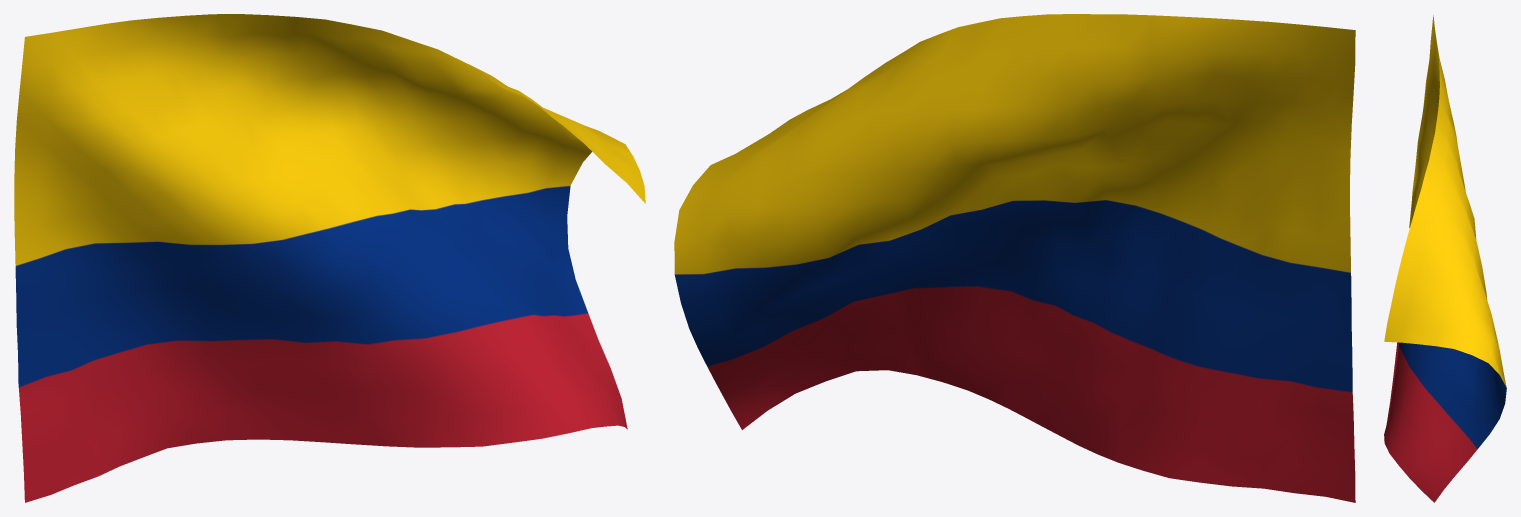
The model's file is colombia.glb.
The picture shows the model from 3 angles, left to right: view 1: azimuth 30°, elevation 25°; view 2: azimuth 150°, elevation 25°; view 3: azimuth 270°, elevation 25°; orthographic projection. The views are drawn at different scales.
Visible parts, largest first — view 1: Flag ShapeKeys_2_4_7; view 2: Flag ShapeKeys_2_4_7; view 3: Flag ShapeKeys_2_4_7.
Boxes of the visible parts, x1,y1,x2,y2 form: Flag ShapeKeys_2_4_7: [14, 14, 645, 502]; Flag ShapeKeys_2_4_7: [674, 14, 1355, 502]; Flag ShapeKeys_2_4_7: [1384, 15, 1506, 502].
Bounding box in the file's own units: 2.8 × 2.32 × 0.8164.
Materials: 1 (1 with a texture image).
